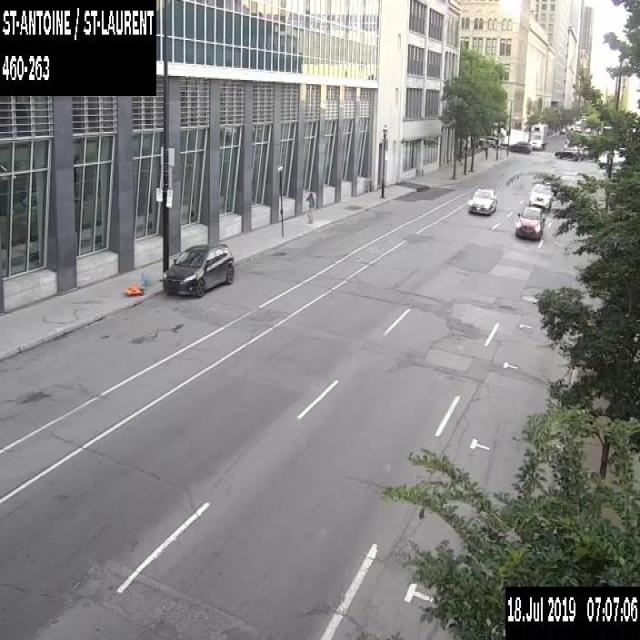construction: (124, 271, 150, 295)
pedestrian: (305, 191, 315, 223)
vehicle: (162, 242, 234, 298), (514, 205, 544, 240), (467, 186, 497, 215), (528, 182, 552, 209), (596, 146, 624, 168), (530, 123, 547, 149), (554, 146, 584, 160), (508, 140, 530, 152), (478, 135, 500, 146), (559, 126, 566, 133), (584, 126, 590, 132), (575, 125, 581, 131)
